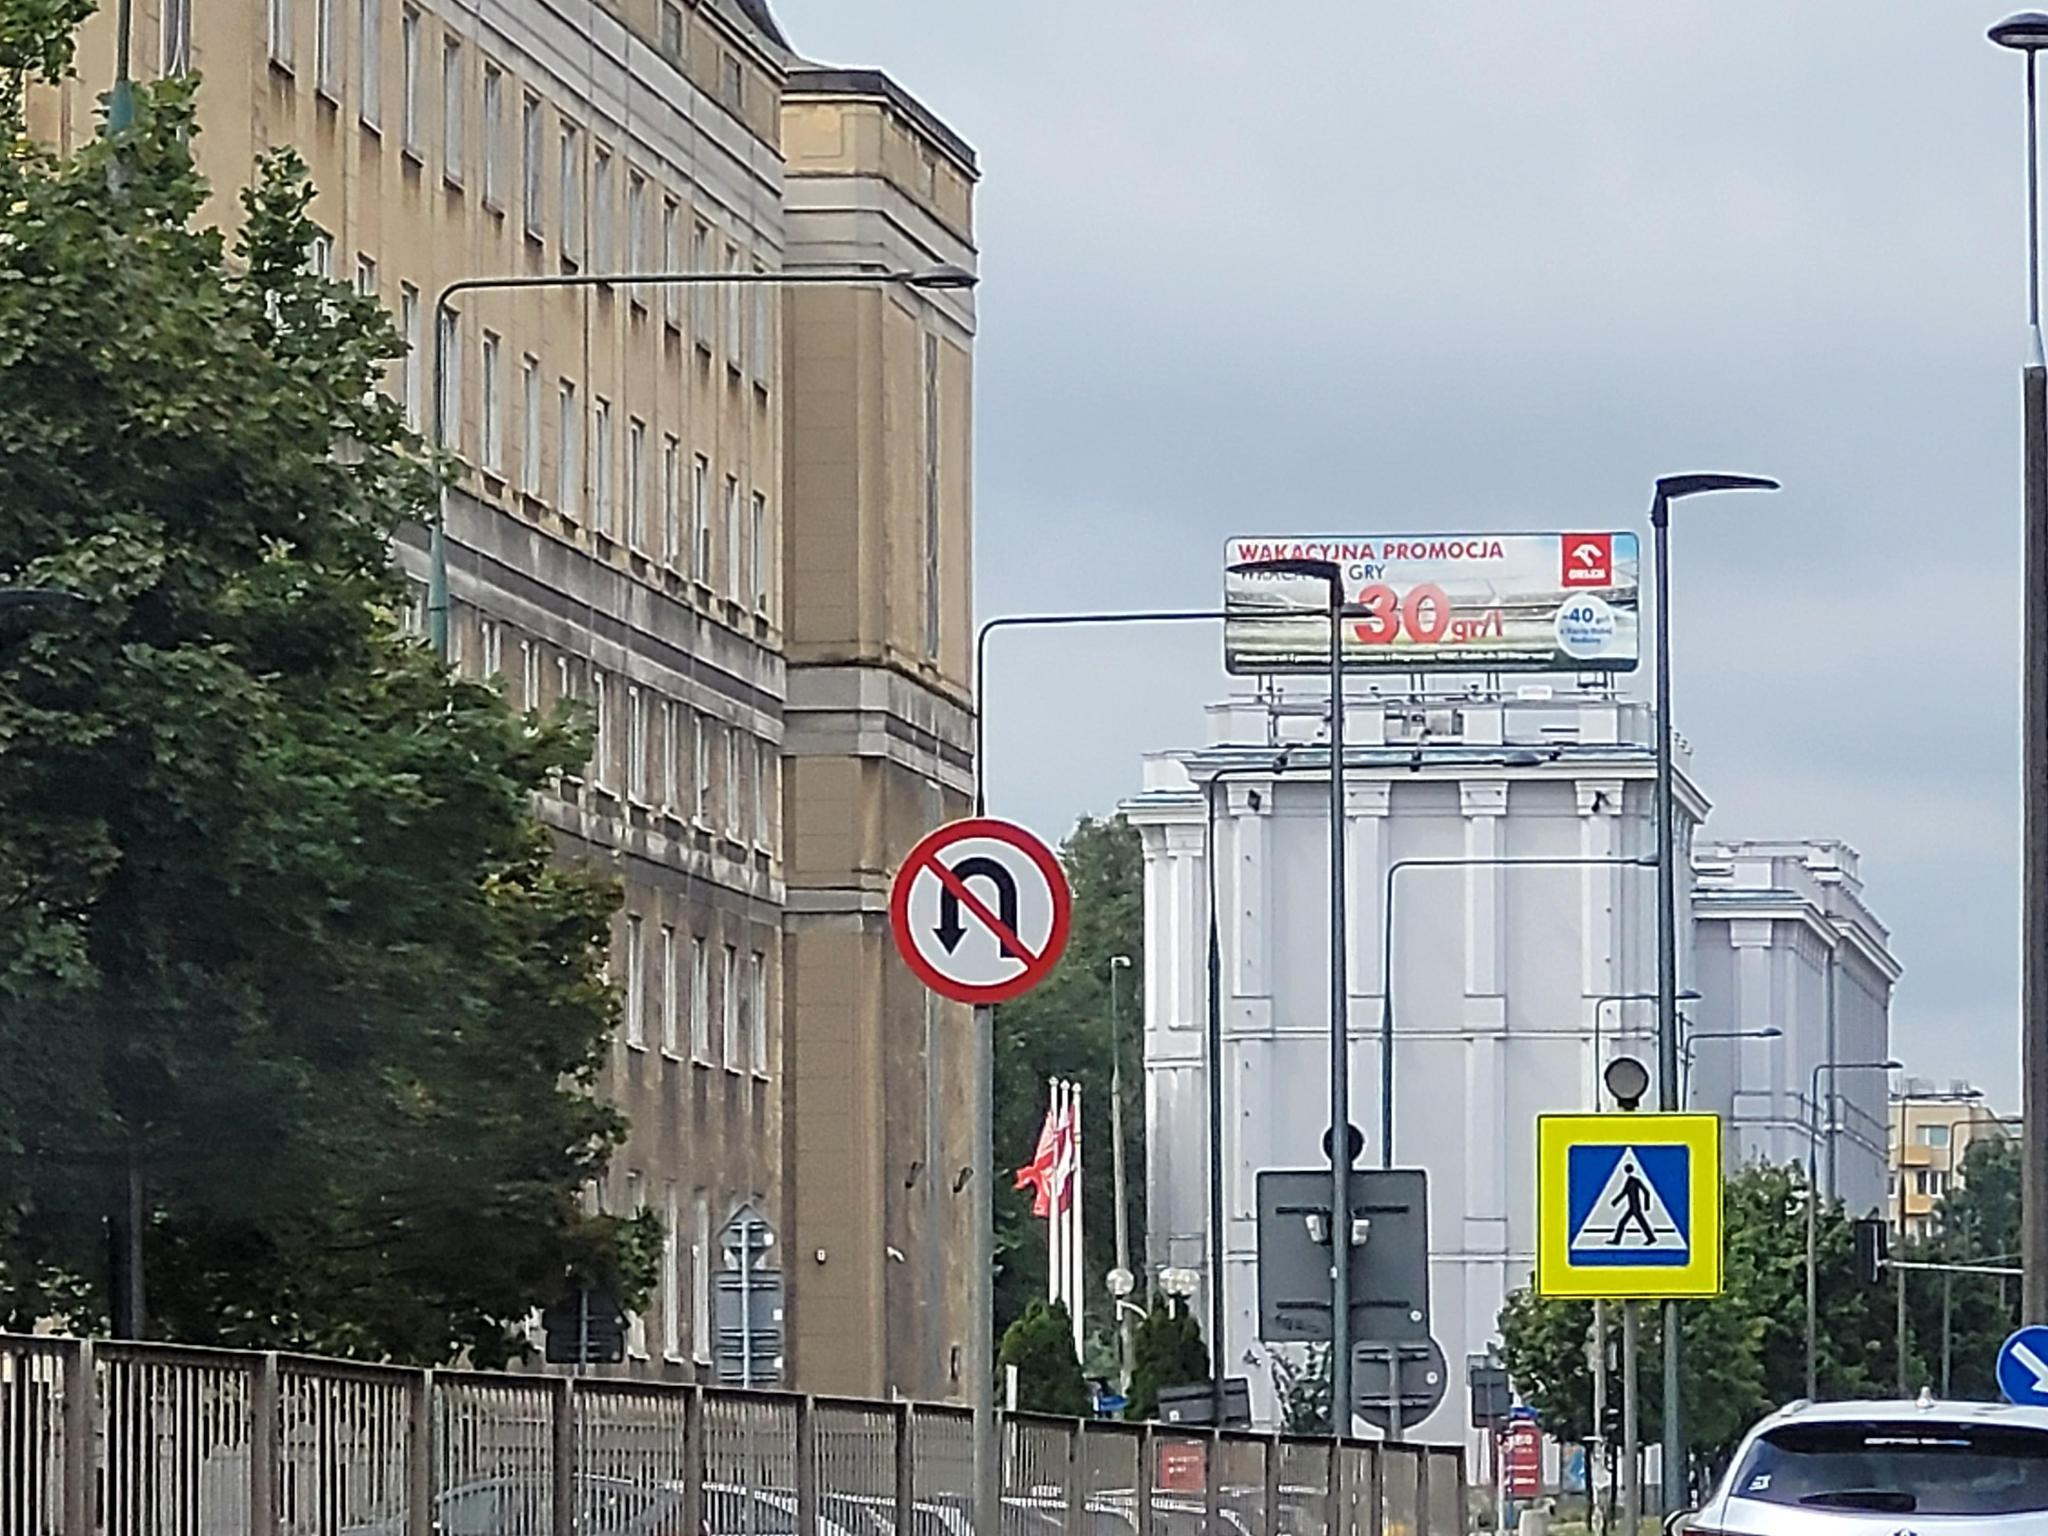information: (1564, 1141, 1693, 1270)
mandatory: (1996, 1325, 2048, 1409)
prohibitory: (889, 816, 1071, 1004)
